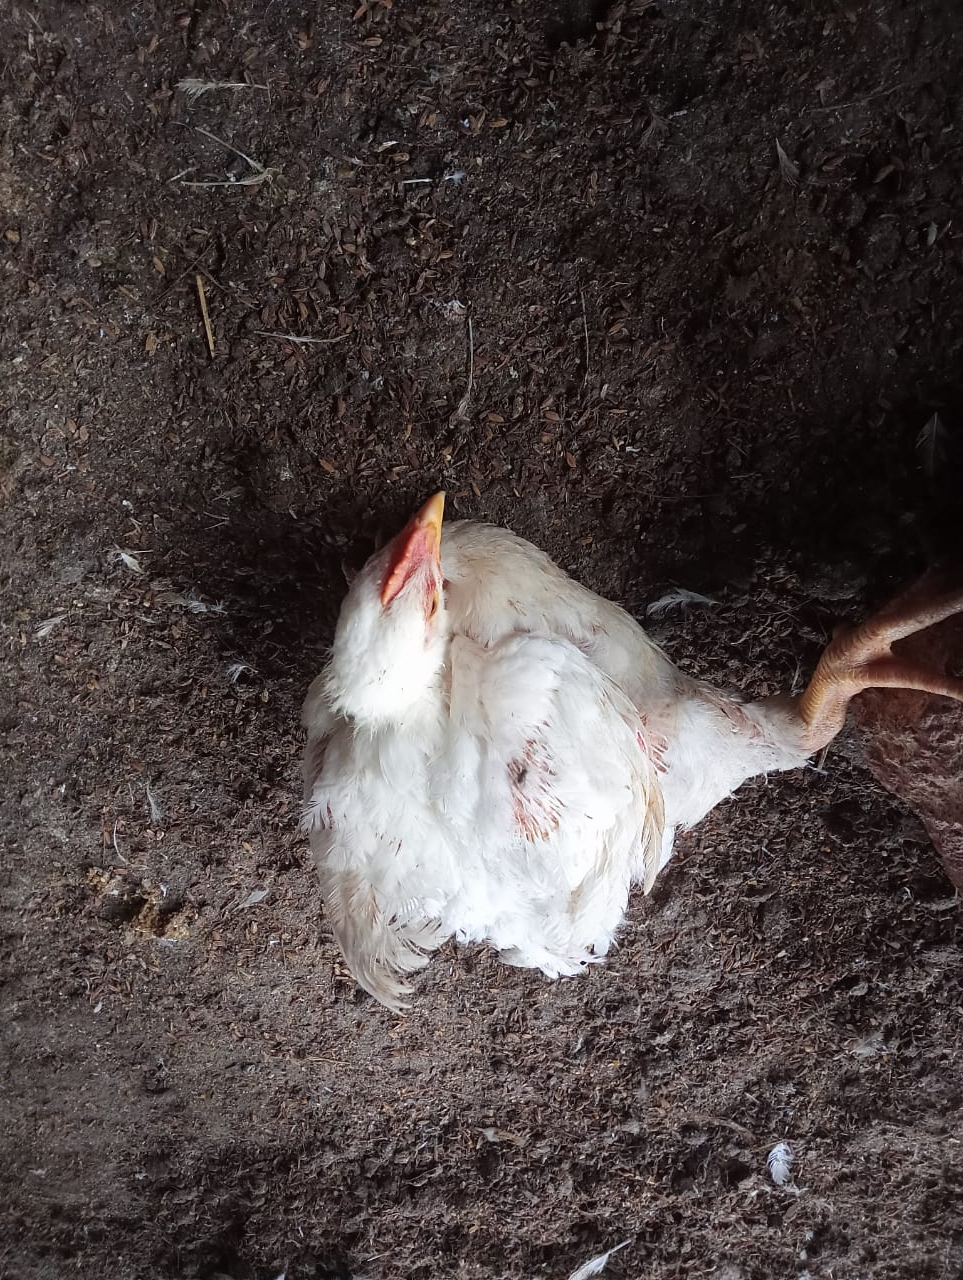Unhealthy: (268, 463, 950, 1067)
